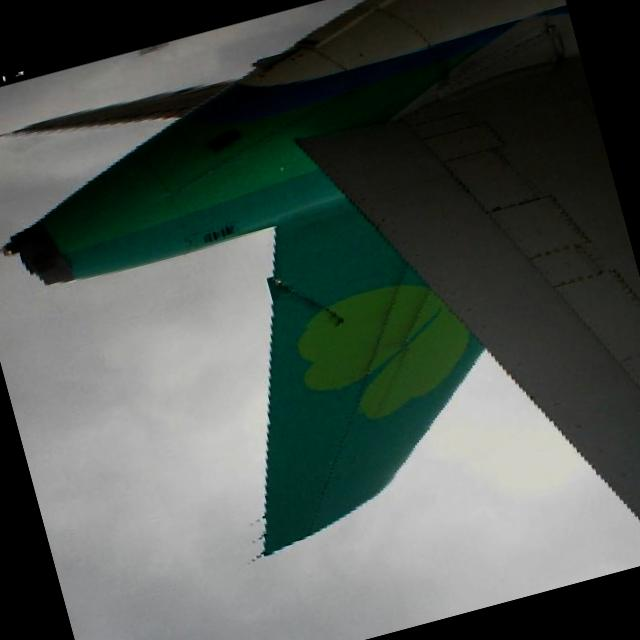crack: (266, 253, 352, 341)
